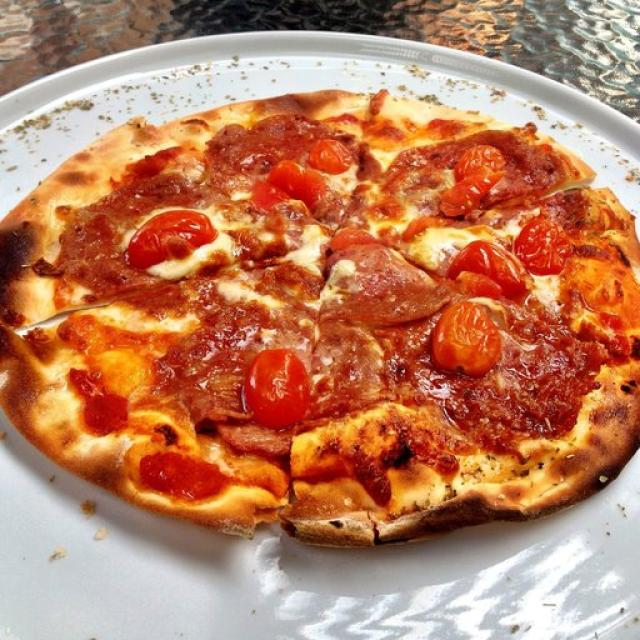Pizza: (0, 91, 640, 550)
Tomato: (427, 289, 504, 382), (440, 132, 512, 225), (440, 236, 537, 300), (122, 206, 222, 267), (241, 348, 313, 427), (251, 160, 334, 218), (522, 209, 575, 278), (306, 135, 357, 175)
